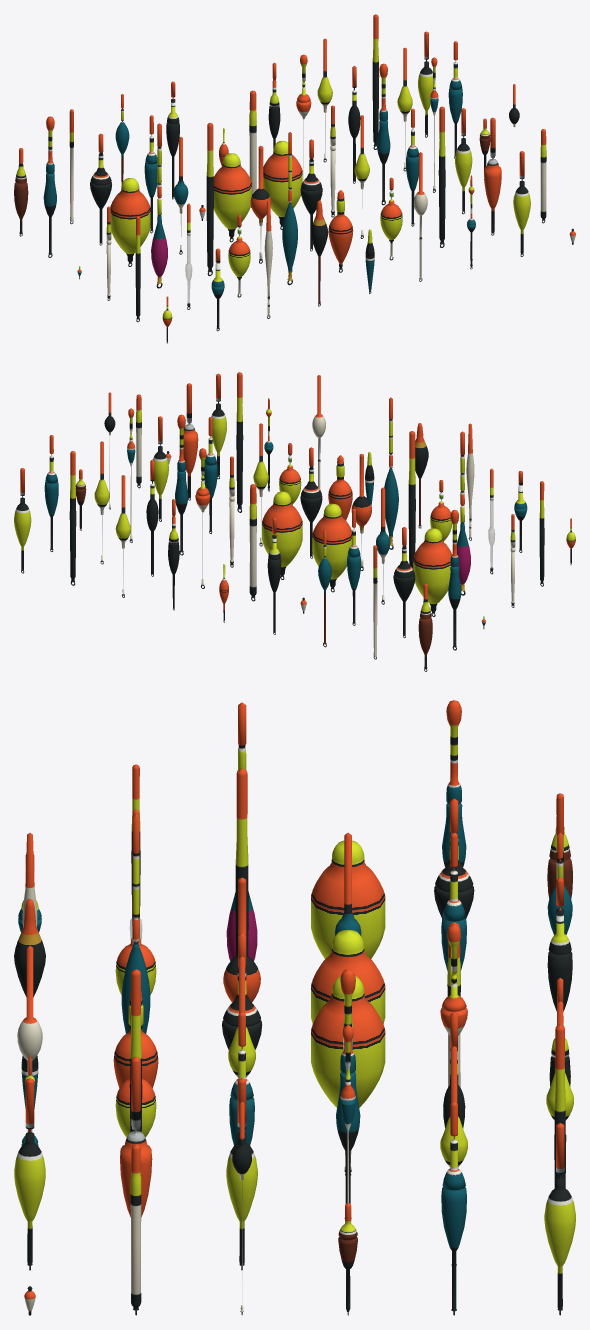
The model's file is float-library.glb.
The picture shows the model from 3 angles, top to bottom: view 1: azimuth 30°, elevation 25°; view 2: azimuth 150°, elevation 25°; view 3: azimuth 270°, elevation 25°; orthographic projection. The views are drawn at different scales.
Parts seen in each view (by area): view 1: F31_Float, F29_Float, F32_Float, F20_Float, F13_Float, F14_Float, F21_Float, F17_Float, F38_Float, F37_Float, F34_Float, F16_Float (+31 smaller); view 2: F29_Float, F32_Float, F31_Float, F20_Float, F13_Float, F37_Float, F21_Float, F34_Float, F17_Float, F38_Float, F23_Float, F16_Float (+33 smaller); view 3: F32_Float, F29_Float, F31_Float, F08_Float, F55_Float, F45_Float, F13_Float, F17_Float, F26_Float, F34_Float, F37_Float, F49_Float (+25 smaller).
Part boxes in pixels (x1,y1,x2,y2): F31_Float: (213,153,251,242); F29_Float: (110,178,150,266); F32_Float: (263,140,302,229); F20_Float: (151,123,167,288); F13_Float: (282,132,297,285); F14_Float: (328,190,353,272); F21_Float: (206,122,213,275); F17_Float: (484,117,501,235); F38_Float: (90,133,111,245); F37_Float: (43,116,56,257); F34_Float: (377,63,390,205); F16_Float: (438,106,445,247); F29_Float: (413,528,452,616); F32_Float: (262,491,302,579); F31_Float: (312,503,351,592); F20_Float: (457,431,470,595); F13_Float: (384,397,398,549); F37_Float: (448,510,461,650); F21_Float: (408,431,415,568); F34_Float: (175,414,188,555); F17_Float: (183,383,198,500); F38_Float: (393,527,415,638); F23_Float: (300,447,322,558); F16_Float: (236,372,243,512); F32_Float: (311,976,385,1107); F29_Float: (311,840,385,958); F31_Float: (311,929,385,1023); F08_Float: (14,1078,45,1270); F55_Float: (544,1123,575,1315); F45_Float: (441,1101,466,1315); F13_Float: (121,813,150,1033); F17_Float: (120,1056,152,1217); F26_Float: (226,1078,257,1270); F34_Float: (336,969,360,1218); F37_Float: (442,700,466,867); F49_Float: (547,877,572,1011).
Size of the model in its own units: 0.7444 by 0.28 by 0.477.
Materials: 54 (54 with a texture image).
